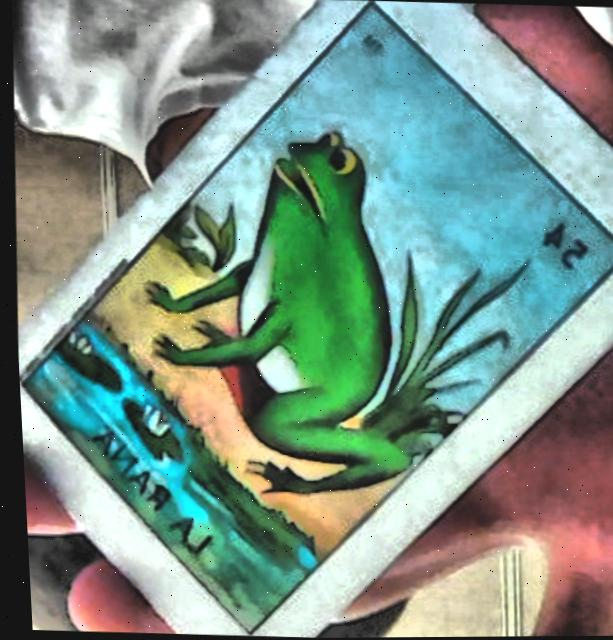La Rana: (16, 6, 613, 633)
